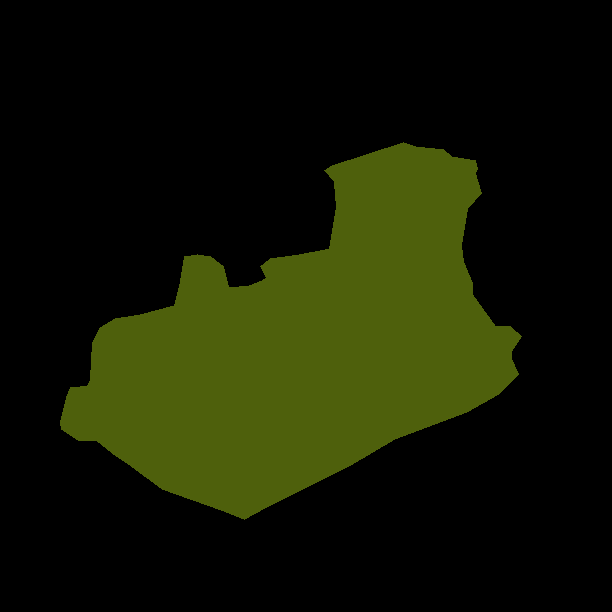Train: (60, 142, 521, 519)
